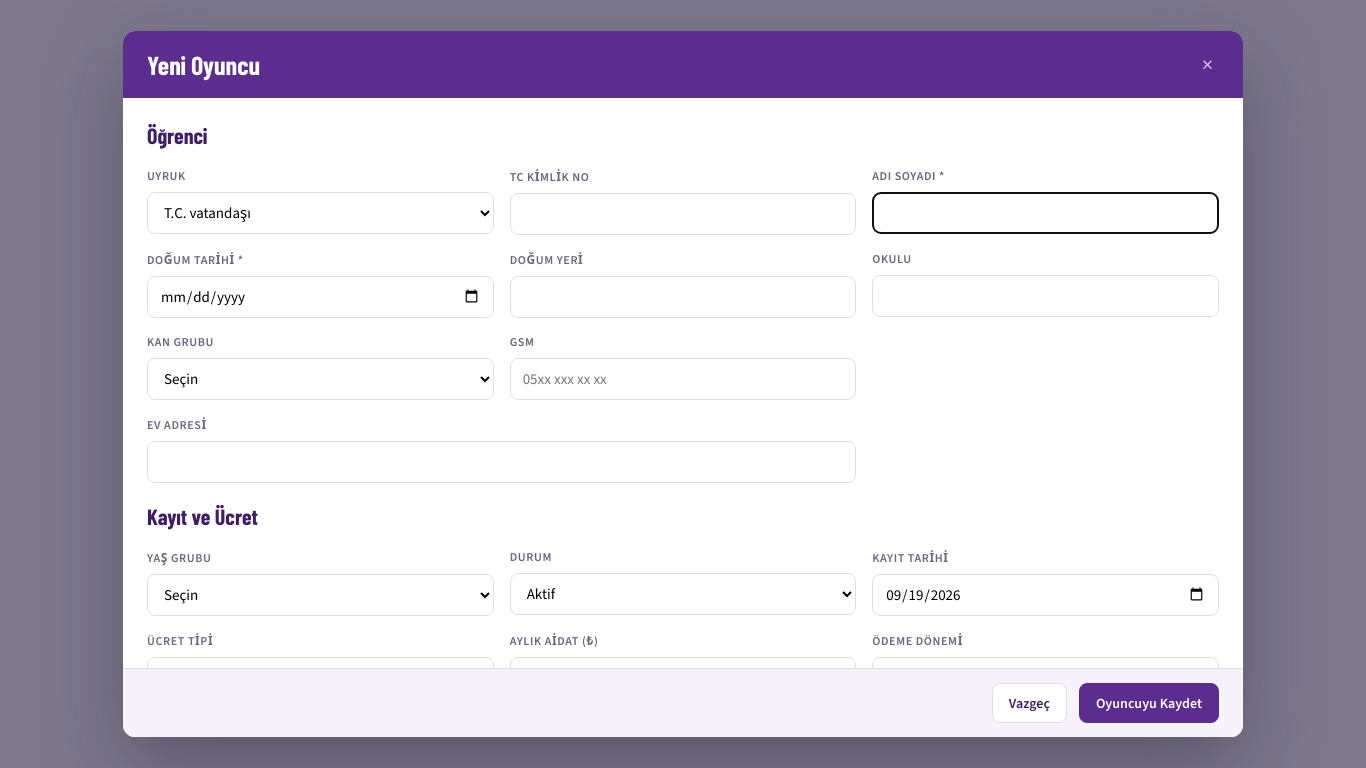
Oyuncu formu: yaş grubu ipucu, kalabalık yılda alt gruplar › tek eşleşen grupta tek bağlantı çıkar
The width and height of the screenshot is (1366, 768).
Expected: the dropdown labelled "Yaş Grubu" is shown, x1=147 y1=574 x2=494 y2=616
Type "2015-03-03" into the date field labelled "Doğum Tarihi *".
click(320, 297); type("2015-03-03")  # box x1=147 y1=276 x2=494 y2=318
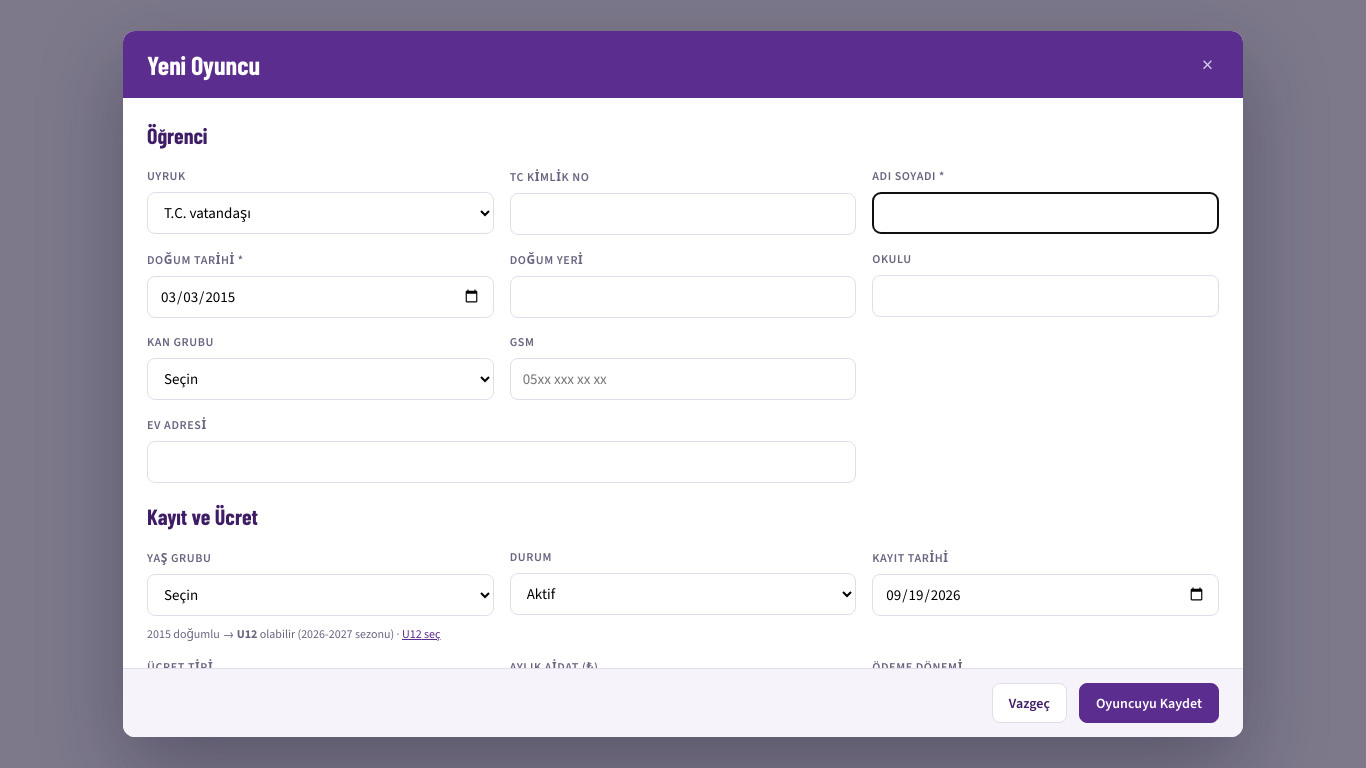
Expected: the button "U12 seç" is shown, x1=402 y1=626 x2=440 y2=642
